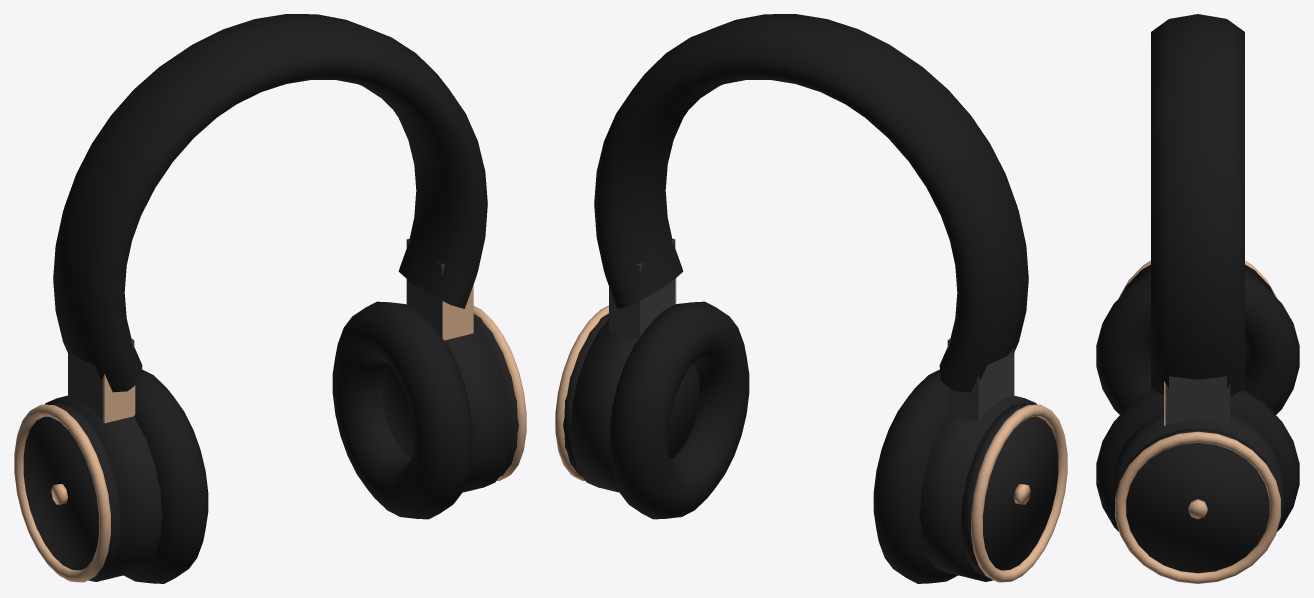
The model's file is headphones-RBhcxVB-.glb.
3 views of the same model, side by side, from view 1: azimuth 30°, elevation 25°; view 2: azimuth 150°, elevation 25°; view 3: azimuth 270°, elevation 25° (orthographic). The views are drawn at different scales.
Parts seen in each view (by area): view 1: Headphones; view 2: Headphones; view 3: Headphones.
Boxes of the visible parts, <box> form: Headphones: <box>14,14,526,583</box>; Headphones: <box>555,14,1067,583</box>; Headphones: <box>1096,14,1299,583</box>.
Bounding box in the file's own units: 0.278 × 0.322 × 0.1251.
